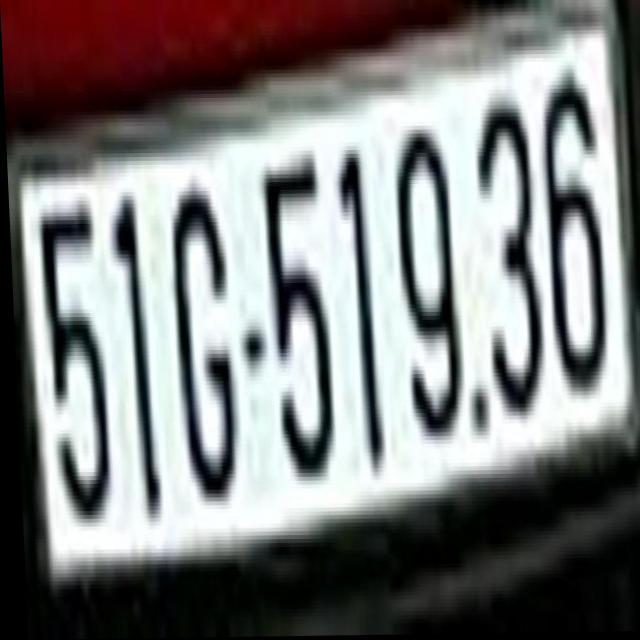1: (330, 139, 385, 501), (108, 188, 155, 511)
3: (471, 98, 541, 425)
5: (258, 136, 333, 494), (34, 200, 109, 523)
6: (540, 71, 603, 385)
9: (390, 115, 463, 450)
G: (164, 164, 238, 518)
